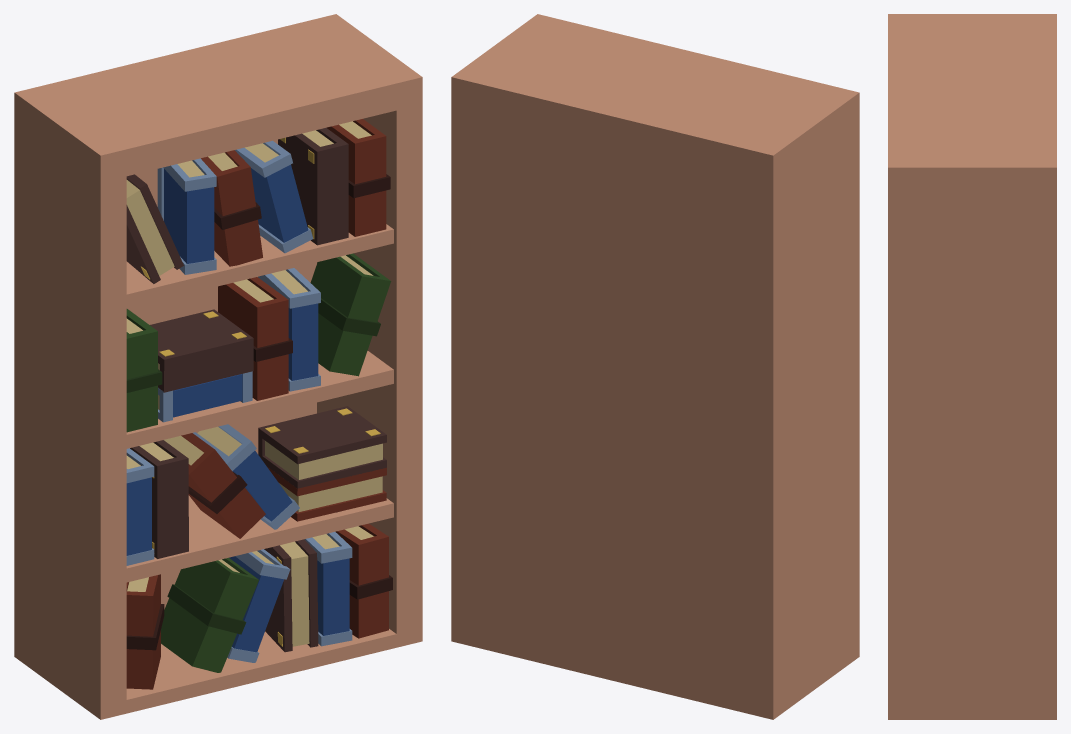
File: Shelf_Book.fbx
The picture shows the model from 3 angles, left to right: view 1: azimuth 30°, elevation 25°; view 2: azimuth 150°, elevation 25°; view 3: azimuth 270°, elevation 25°; orthographic projection. The views are drawn at different scales.
Parts seen in each view (by area): view 1: Shelf_Book_Geo, Book_02_Geo, Book_01_Geo4, Book_02_Geo2, Book_01_Geo1, Book_01_Geo, Book_03_Geo, Book_04_Geo1, Book_04_Geo2, Book_03_Geo2, Book_03_Geo3, Book_03_Geo1 (+13 smaller); view 2: Shelf_Book_Geo; view 3: Shelf_Book_Geo.
Part boxes in pixels (box(x1,y1,x2,y2)): Shelf_Book_Geo: box(14, 14, 422, 719); Book_02_Geo: box(161, 557, 258, 672); Book_01_Geo4: box(258, 406, 386, 488); Book_02_Geo2: box(310, 253, 391, 376); Book_01_Geo1: box(150, 309, 253, 392); Book_01_Geo: box(278, 128, 348, 245); Book_03_Geo: box(218, 277, 292, 400); Book_04_Geo1: box(157, 158, 216, 274); Book_04_Geo2: box(235, 140, 313, 253); Book_03_Geo2: box(201, 150, 262, 266); Book_03_Geo3: box(164, 433, 265, 538); Book_03_Geo1: box(326, 119, 390, 236); Shelf_Book_Geo: box(451, 14, 859, 719); Shelf_Book_Geo: box(888, 14, 1056, 719).
Size of the model in its own units: 49.94 by 83.65 by 23.17.
